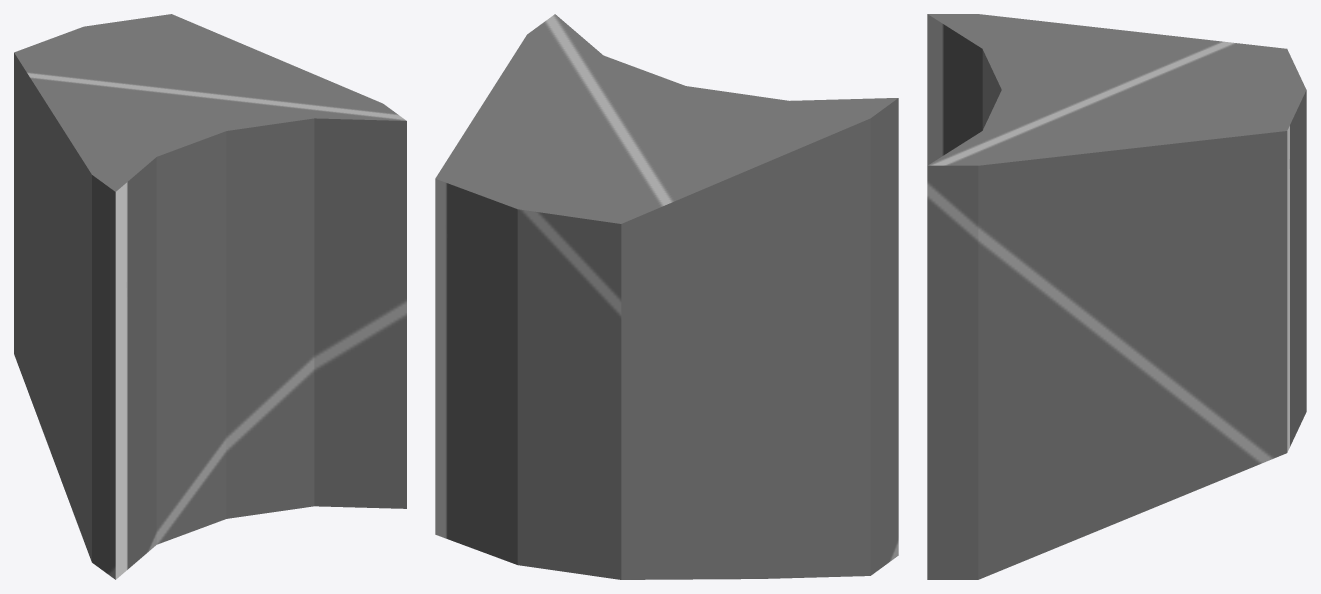
The model's file is FSS-S2-Ammo-Counter.obj.
The picture shows the model from 3 angles, left to right: view 1: azimuth 30°, elevation 25°; view 2: azimuth 150°, elevation 25°; view 3: azimuth 270°, elevation 25°; orthographic projection. The views are drawn at different scales.
Visible parts, largest first — view 1: FSS-S2-Ammo-Counter; view 2: FSS-S2-Ammo-Counter; view 3: FSS-S2-Ammo-Counter.
Part boxes in pixels (bbox=[...]): FSS-S2-Ammo-Counter: bbox=[14, 14, 406, 579]; FSS-S2-Ammo-Counter: bbox=[435, 14, 898, 579]; FSS-S2-Ammo-Counter: bbox=[927, 14, 1306, 579].
Size of the model in its own units: 0.7071 by 0.9 by 0.7464.
